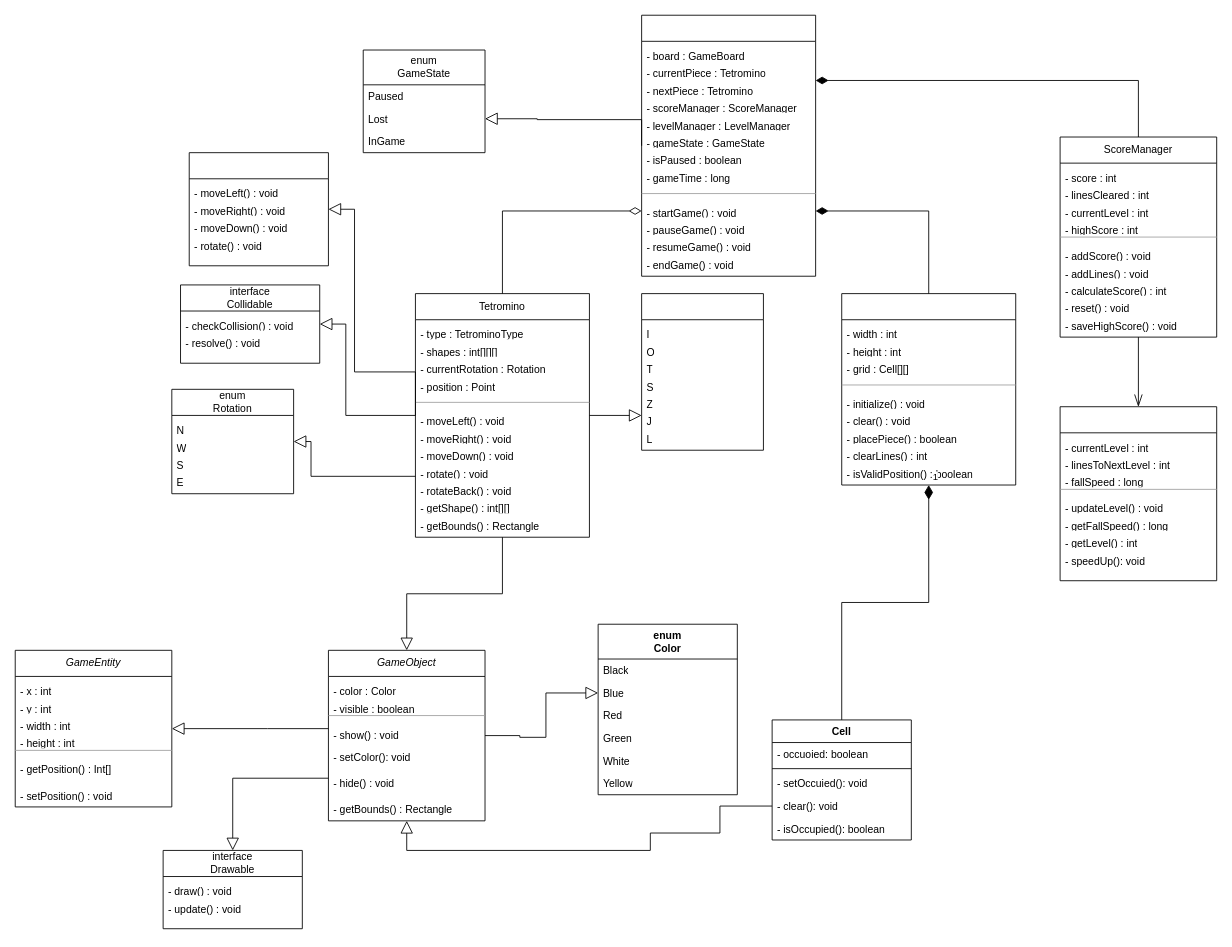
Image size: 1232x947. Some labels were removed from this diagram. Here are the shapes that lost their labels. From the top down, the box of each, then its label:
(641, 14, 816, 276): TetrisGame
(188, 152, 328, 266): interface Movable
(641, 293, 763, 450): enum TetrominoType
(841, 293, 1016, 485): GameBoard
(1059, 406, 1217, 581): LevelManager
